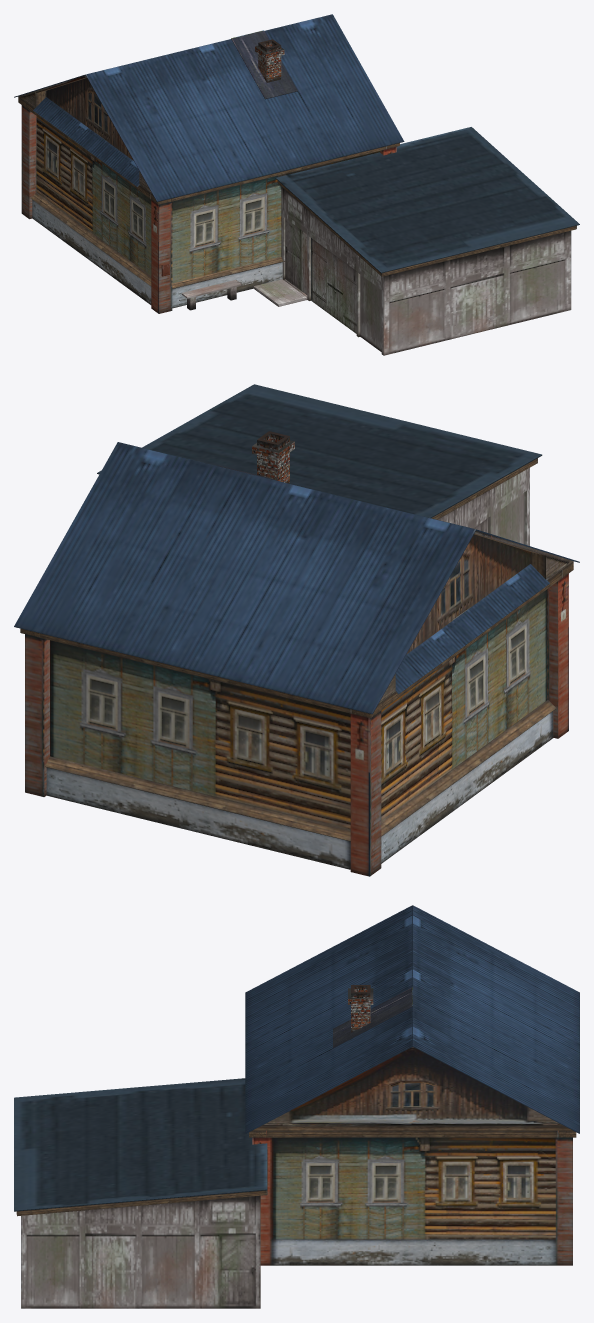
The model's file is Suburban warehouse.fbx.
3 renders of one model, top to bottom at view 1: azimuth 30°, elevation 25°; view 2: azimuth 150°, elevation 25°; view 3: azimuth 270°, elevation 25°, orthographic. The views are drawn at different scales.
Visible parts, largest first — view 1: Suburban warehouse; view 2: Suburban warehouse; view 3: Suburban warehouse.
Boxes of the visible parts, bbox=[...] form: Suburban warehouse: bbox=[14, 14, 579, 355]; Suburban warehouse: bbox=[14, 384, 579, 876]; Suburban warehouse: bbox=[14, 905, 579, 1308].
Size of the model in its own units: 193 by 112 by 250.
